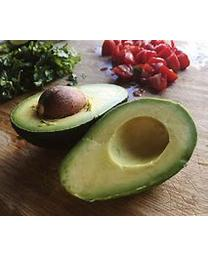avocado: (57, 98, 199, 204), (10, 81, 130, 148)
